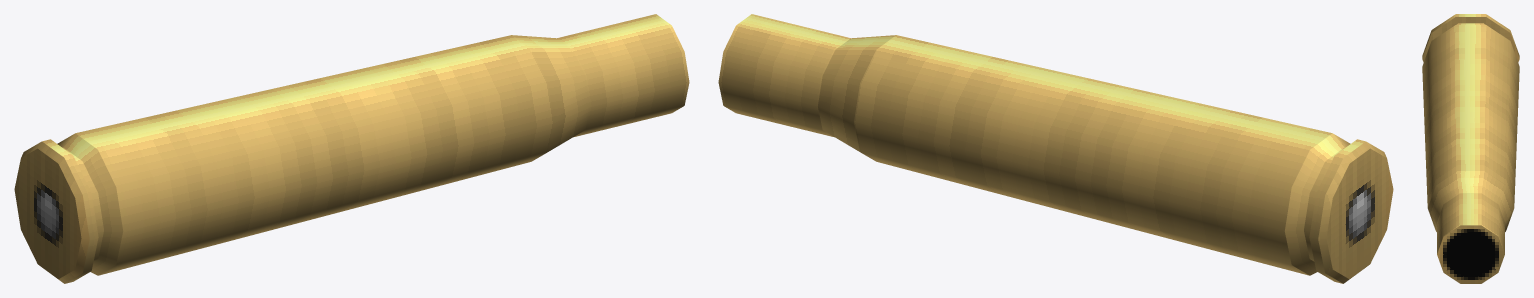
File: ammomaker_CasingBottleneckL.fbx
The picture shows the model from 3 angles, left to right: view 1: azimuth 30°, elevation 25°; view 2: azimuth 150°, elevation 25°; view 3: azimuth 270°, elevation 25°; orthographic projection. The views are drawn at different scales.
Visible parts, largest first — view 1: ammomaker_CasingBottleneckL; view 2: ammomaker_CasingBottleneckL; view 3: ammomaker_CasingBottleneckL.
Boxes of the visible parts, box(x1,y1,x2,y2) form: ammomaker_CasingBottleneckL: box(14, 14, 689, 283); ammomaker_CasingBottleneckL: box(718, 14, 1393, 283); ammomaker_CasingBottleneckL: box(1422, 14, 1519, 283).
Bounding box in the file's own units: 9.93 × 1.94 × 2.04.
